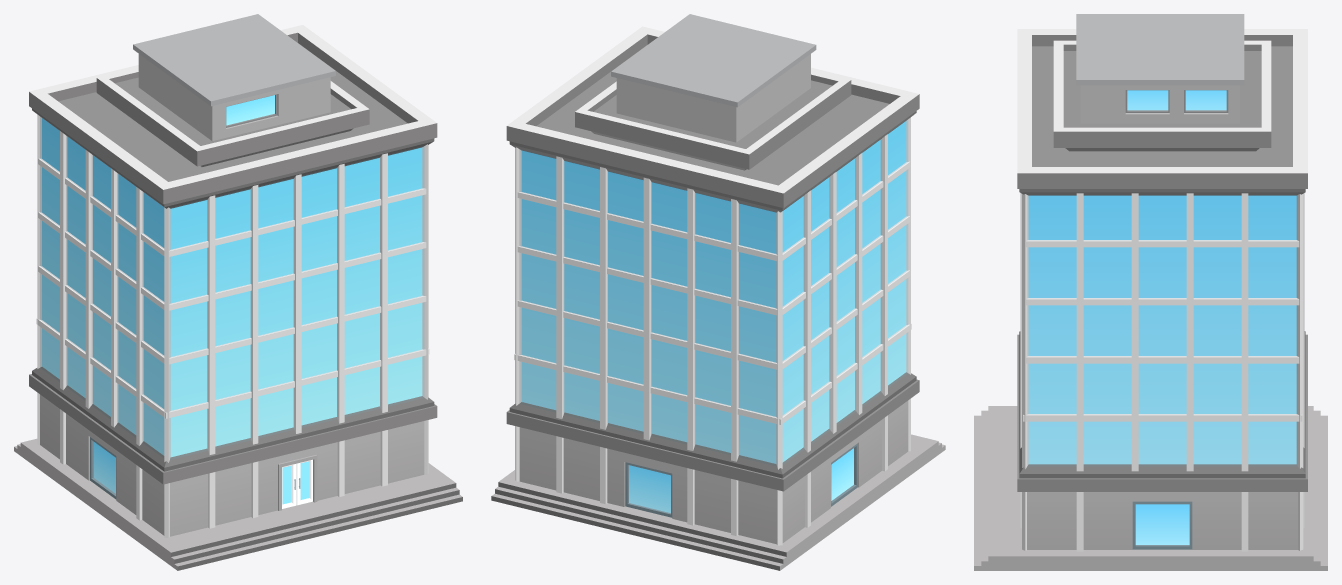
File: city2-building-business-10.glb
The picture shows the model from 3 angles, left to right: view 1: azimuth 30°, elevation 25°; view 2: azimuth 150°, elevation 25°; view 3: azimuth 270°, elevation 25°; orthographic projection. The views are drawn at different scales.
Visible parts, largest first — view 1: Building_Business_10; view 2: Building_Business_10; view 3: Building_Business_10.
Boxes of the visible parts, <box> form: Building_Business_10: <box>14,14,462,570</box>; Building_Business_10: <box>491,14,945,570</box>; Building_Business_10: <box>974,14,1327,570</box>.
Size of the model in its own units: 14.88 by 20.7 by 14.78.
Materials: 2 (2 with a texture image).
